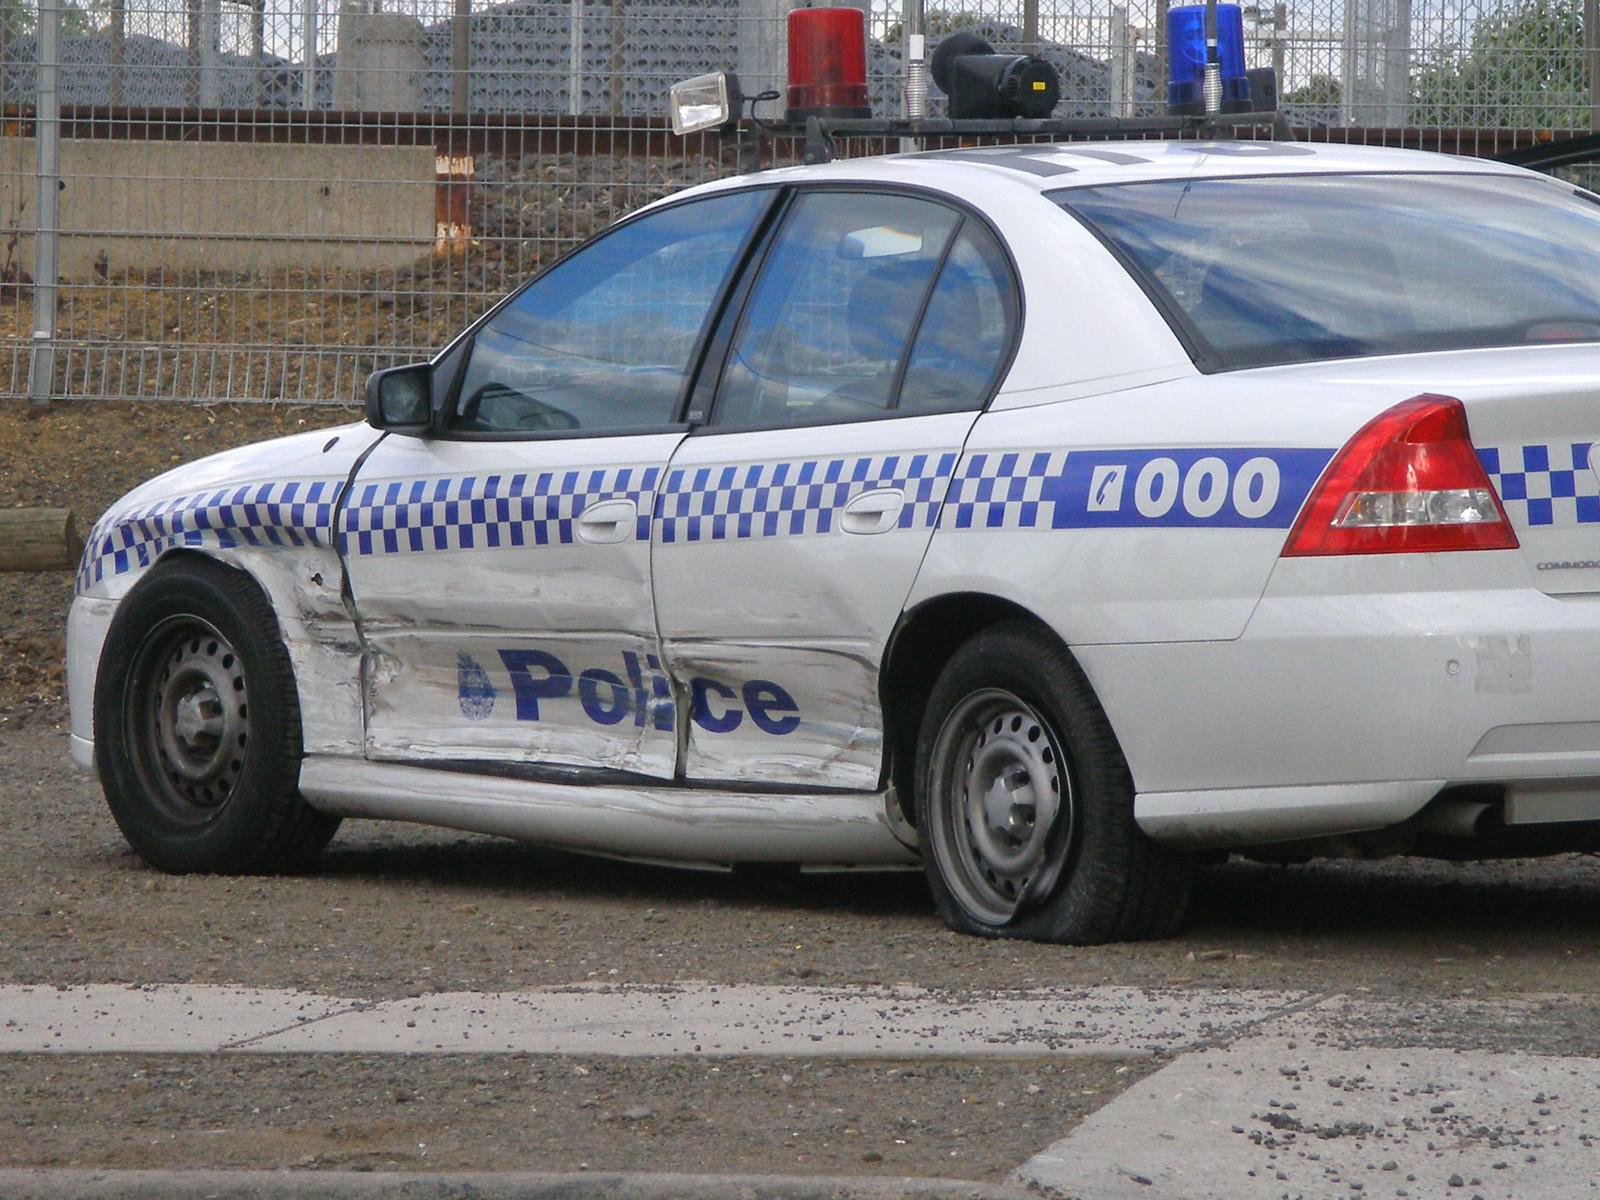RunningBoard-Dent: (289, 737, 871, 860)
doorouter-dent: (665, 430, 921, 809), (355, 463, 641, 783)
